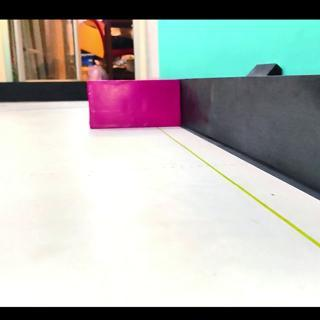xparking: (89, 83, 173, 127)
